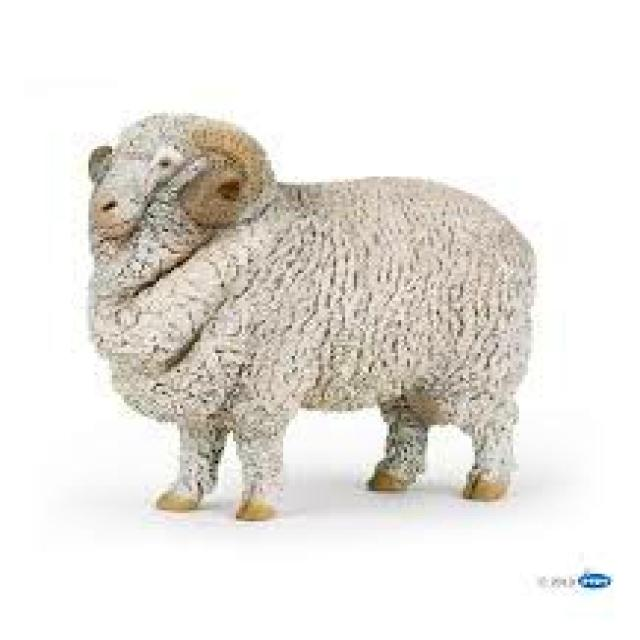sheep: (88, 113, 534, 516)
